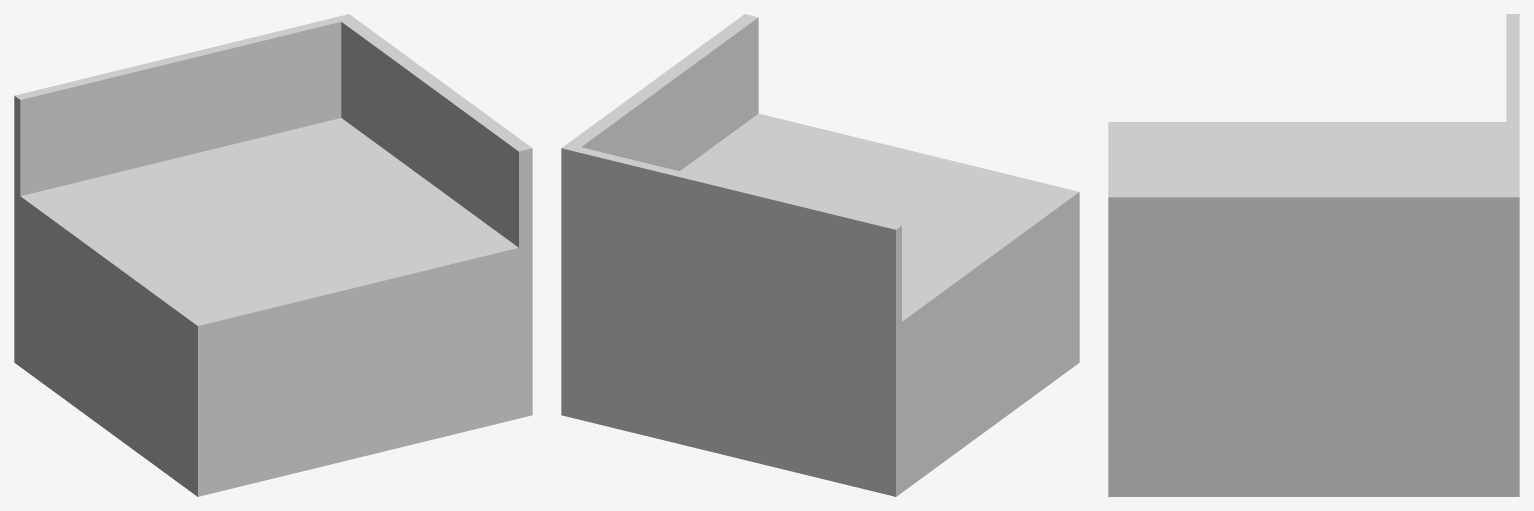
The model's file is Counter_2_C.glb.
The picture shows the model from 3 angles, left to right: view 1: azimuth 30°, elevation 25°; view 2: azimuth 150°, elevation 25°; view 3: azimuth 270°, elevation 25°; orthographic projection. The views are drawn at different scales.
Visible parts, largest first — view 1: Counter 2 C; view 2: Counter 2 C; view 3: Counter 2 C.
Boxes of the visible parts, left/top/right/bottom form: Counter 2 C: left=14, top=14, right=532, bottom=496; Counter 2 C: left=561, top=14, right=1079, bottom=496; Counter 2 C: left=1108, top=14, right=1519, bottom=496.
Size of the model in its own units: 1 by 0.7623 by 0.949.
Materials: 1 (1 with a texture image).
